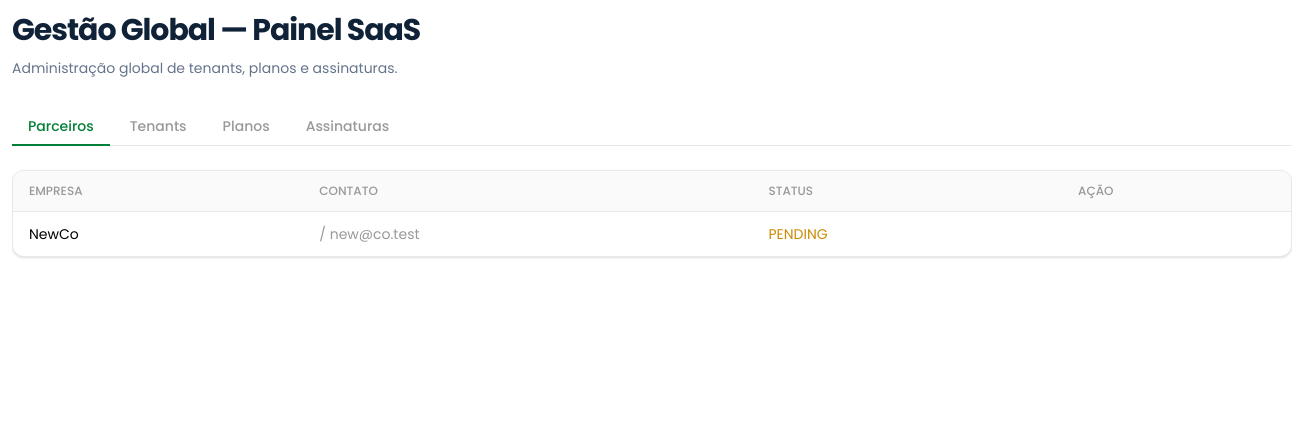
it: SuperAdmin View › loads plans on mount
Step 1. Click the tab with test id "tab-Planos" → point(246, 127), box x1=207 y1=108 x2=286 y2=146
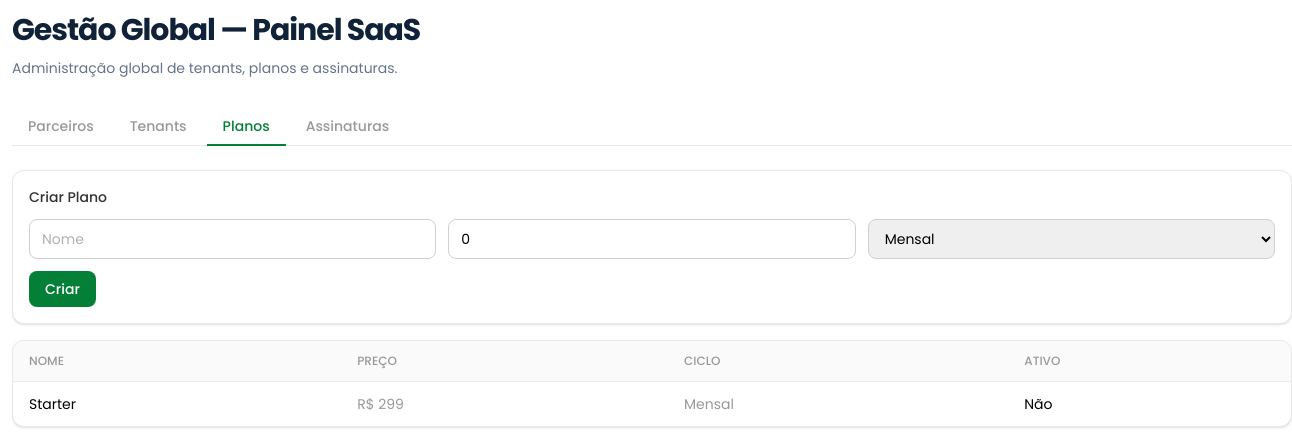
Now the text "Starter" is shown, box x1=13 y1=382 x2=341 y2=426
